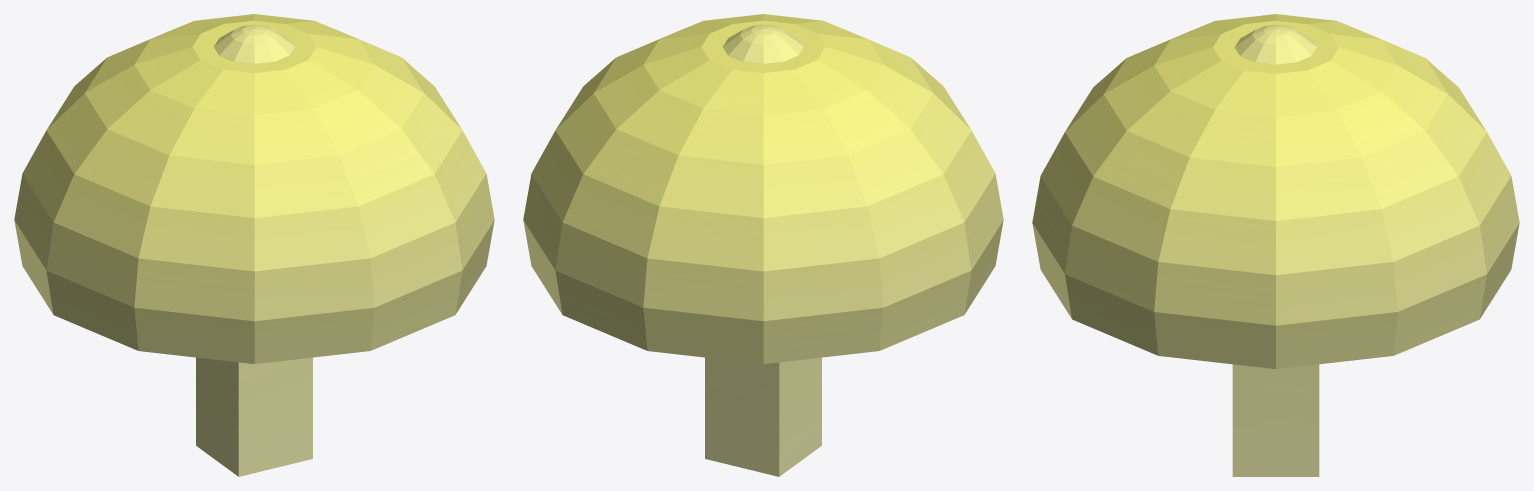
The model's file is SM_Alarm_up_01.fbx.
3 views of the same model, side by side, from view 1: azimuth 30°, elevation 25°; view 2: azimuth 150°, elevation 25°; view 3: azimuth 270°, elevation 25° (orthographic).
Parts seen in each view (by area): view 1: SM_Alarm_up_01; view 2: SM_Alarm_up_01; view 3: SM_Alarm_up_01.
Part boxes in pixels (x1=…): SM_Alarm_up_01: x1=14, y1=14, x2=494, y2=476; SM_Alarm_up_01: x1=523, y1=14, x2=1003, y2=476; SM_Alarm_up_01: x1=1032, y1=14, x2=1519, y2=476.
Bounding box in the file's own units: 5.62 × 5.46 × 5.62.
